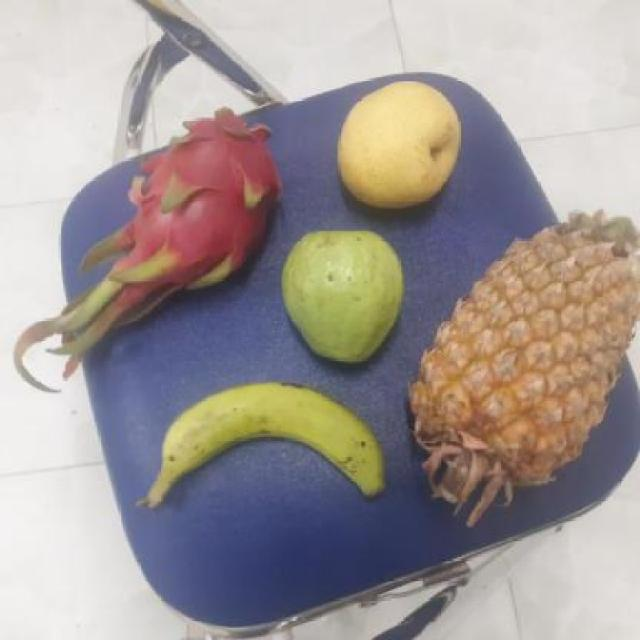banana: (135, 383, 383, 499)
dragon fruit: (125, 113, 280, 289)
guava: (274, 231, 404, 360)
pear: (331, 81, 464, 210)
pineapple: (400, 240, 632, 511)
